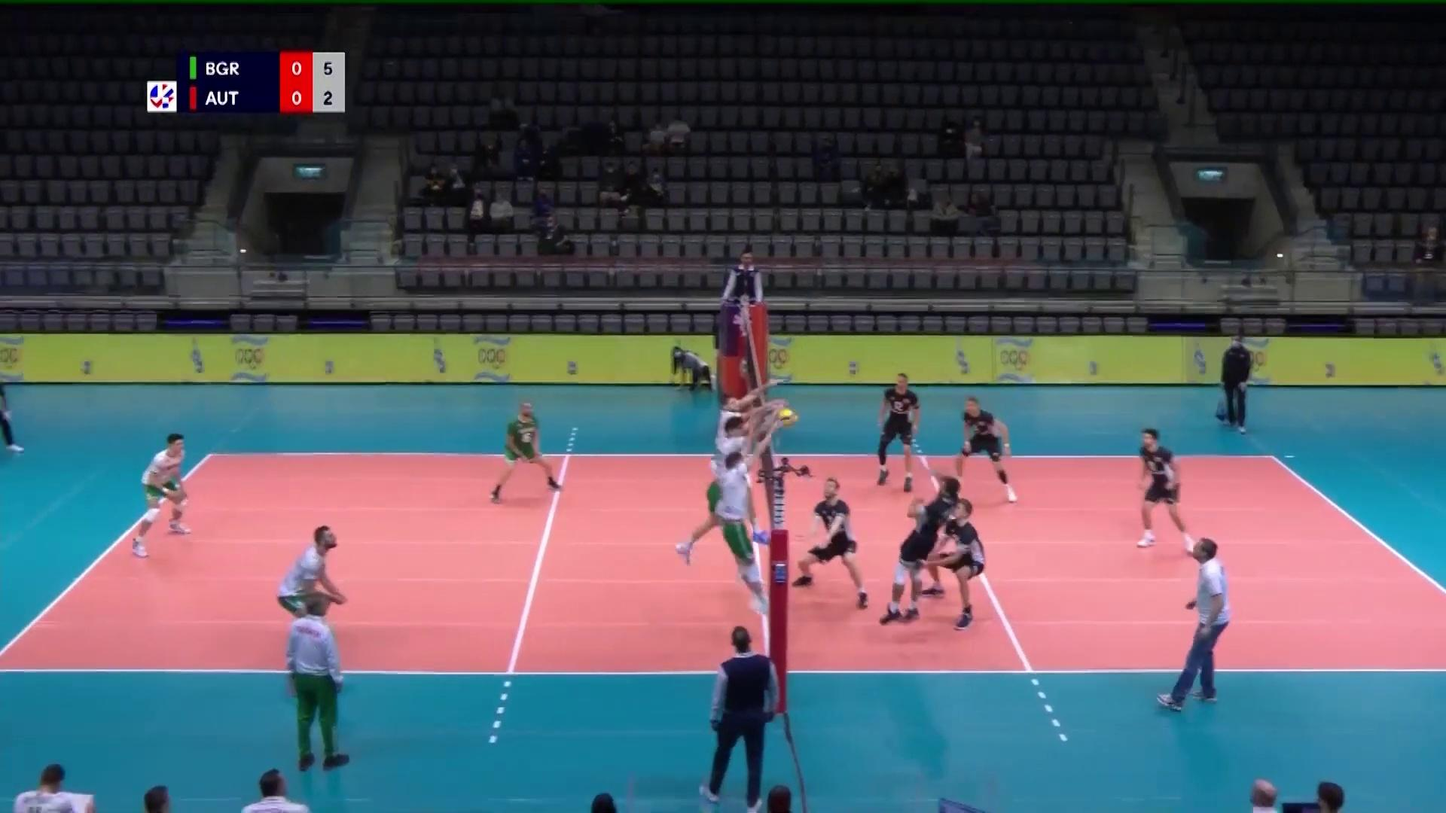ball: (780, 409, 799, 427)
